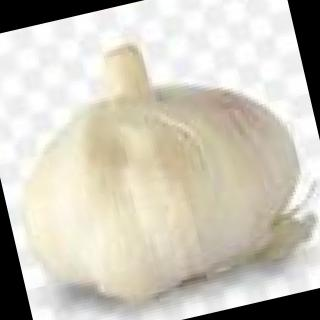Bawang Putih: (1, 9, 320, 320)
